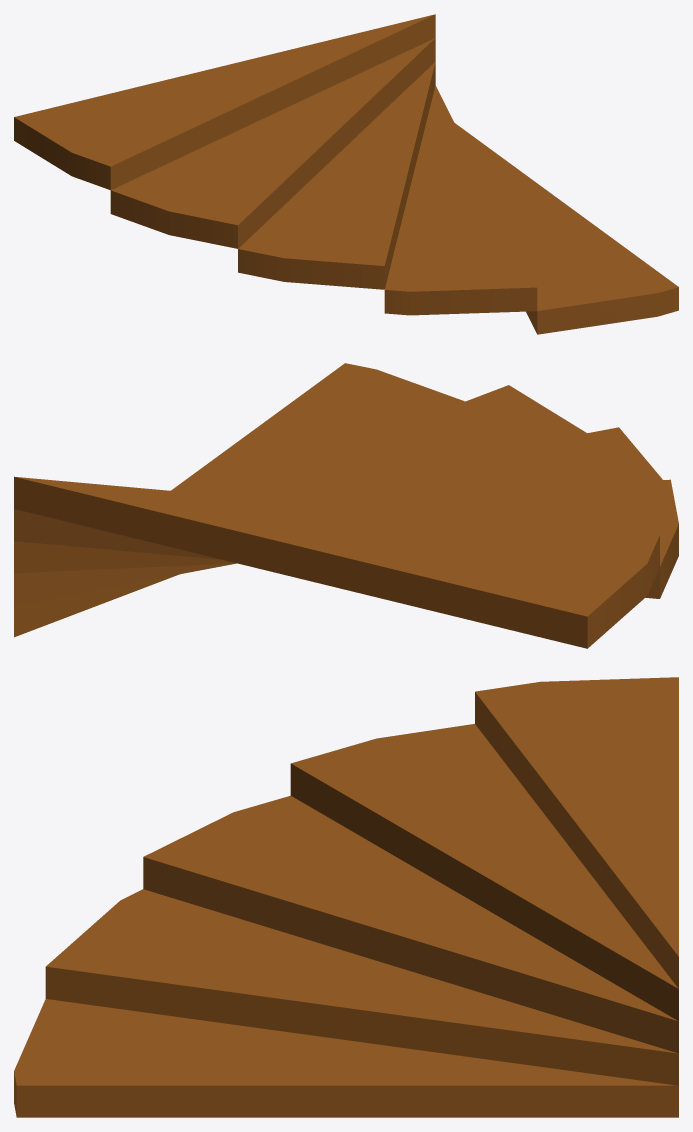
File: Dungeon_Stairs_Large_Quarter_Timber_01.fbx
3 renders of one model, top to bottom at view 1: azimuth 30°, elevation 25°; view 2: azimuth 150°, elevation 25°; view 3: azimuth 270°, elevation 25°, orthographic. The views are drawn at different scales.
Visible parts, largest first — view 1: Model; view 2: Model; view 3: Model.
Part boxes in pixels (x1=…): Model: x1=14, y1=14, x2=678, y2=334; Model: x1=14, y1=363, x2=678, y2=648; Model: x1=14, y1=677, x2=678, y2=1117.
Bounding box in the file's own units: 296 × 79.15 × 297.
